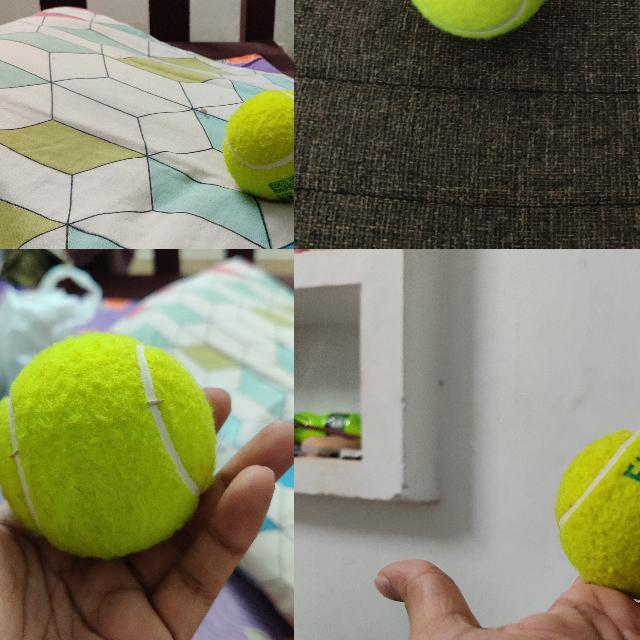tennis-ball: (0, 331, 219, 559), (554, 429, 639, 600), (222, 89, 293, 202), (399, 0, 557, 40)
